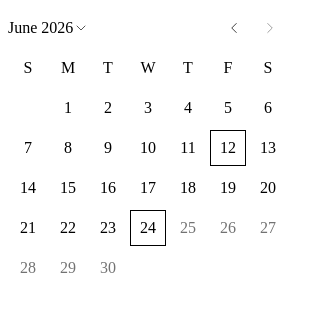
Scenario: Calendar › navigates months and disables the next chevron at the future bound
Expected: the button named "Next month" is disabled, [252,10,288,46]
Click the button named "Previous month".
click(234, 28)  # box [216,10,252,46]
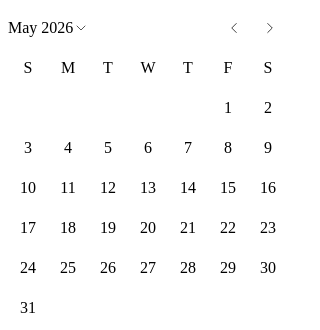
Now the text with class "ui-calendar__switch-label" reads "May 2026", box [8,19,73,36]
